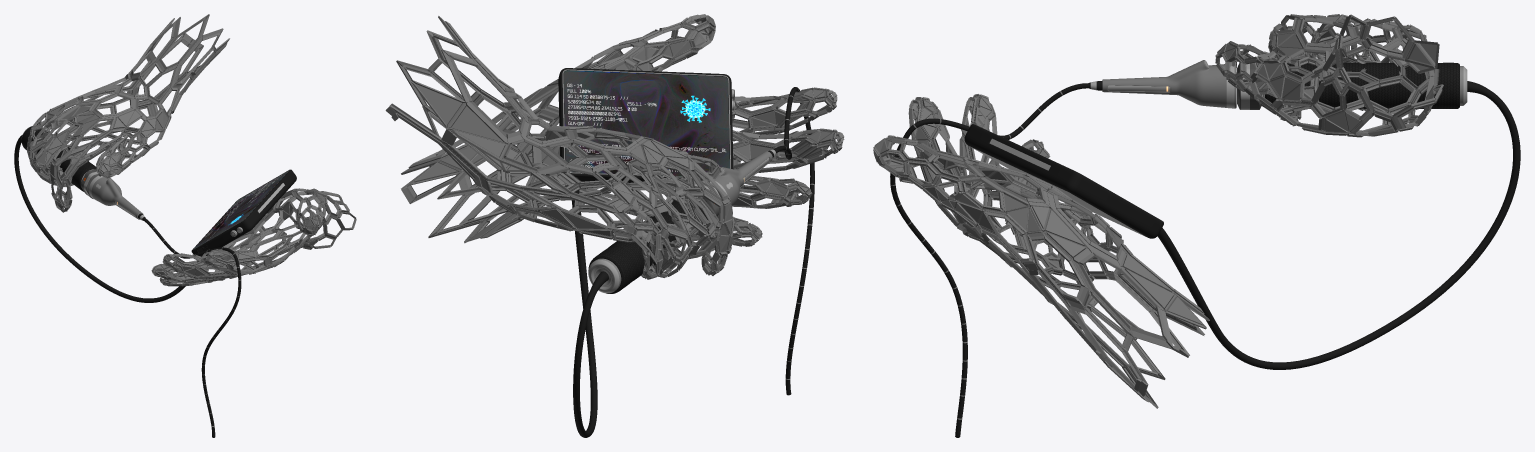
The picture shows the model from 3 angles, left to right: view 1: azimuth 30°, elevation 25°; view 2: azimuth 150°, elevation 25°; view 3: azimuth 270°, elevation 25°; orthographic projection. The views are drawn at different scales.
Parts seen in each view (by area): view 1: Hands_31, Hands.001_35, Cube_3, cable_2_7, Cube_Plate_10, cable_1_5, Retopo_Cylinder_Plate.004_24, Cylinder_Plate_30; view 2: Hands_31, Hands.001_35, Cube_Plate_10, cable_2_7, cable_1_5, Cylinder_Plate_30, Cube_3, E_UI_Texts_011_text_11_8, Retopo_Cylinder_Plate.004_24, EUIVOL2_037_E_UI_VOL_2_9, BB Trim 9_007_1; view 3: Hands.001_35, Hands_31, cable_2_7, Cube_3, Cylinder_Plate_30, Retopo_Cylinder_Plate.004_24, cable_1_5.
Part boxes in pixels (<box>): Hands_31: <box>26,14,229,212</box>; Hands.001_35: <box>151,188,356,286</box>; Cube_3: <box>191,169,296,256</box>; cable_2_7: <box>14,135,185,302</box>; Cube_Plate_10: <box>193,170,288,249</box>; cable_1_5: <box>143,217,241,437</box>; Retopo_Cylinder_Plate.004_24: <box>88,175,143,219</box>; Cylinder_Plate_30: <box>21,126,96,191</box>; Hands_31: <box>385,16,734,279</box>; Hands.001_35: <box>401,14,844,246</box>; Cube_Plate_10: <box>563,70,729,176</box>; cable_2_7: <box>571,177,608,437</box>; cable_1_5: <box>774,87,814,395</box>; Cylinder_Plate_30: <box>588,195,707,293</box>; Cube_3: <box>558,68,733,182</box>; E_UI_Texts_011_text_11_8: <box>567,83,725,171</box>; Retopo_Cylinder_Plate.004_24: <box>709,151,772,205</box>; EUIVOL2_037_E_UI_VOL_2_9: <box>680,95,710,122</box>; BB Trim 9_007_1: <box>562,69,730,177</box>; Hands.001_35: <box>873,94,1209,408</box>; Hands_31: <box>1215,14,1443,137</box>; cable_2_7: <box>1157,81,1520,369</box>; Cube_3: <box>964,124,1163,238</box>; Cylinder_Plate_30: <box>1265,62,1459,108</box>; Retopo_Cylinder_Plate.004_24: <box>1102,60,1236,108</box>; cable_1_5: <box>890,83,1089,437</box>.
Size of the model in its own units: 11.21 by 12.5 by 14.23.
Materials: 15 (4 with a texture image).
